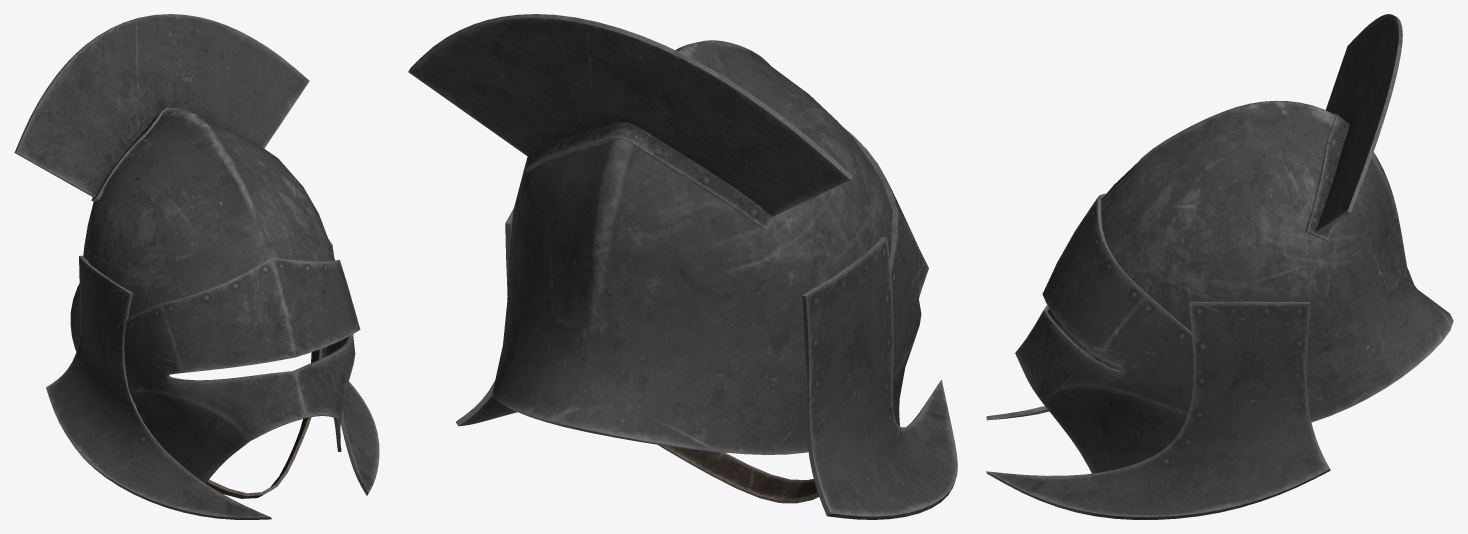
The model's file is sk_uruk_hai_helmet_sword_heavy_a4.fbx.
3 renders of one model, left to right at view 1: azimuth 30°, elevation 25°; view 2: azimuth 150°, elevation 25°; view 3: azimuth 270°, elevation 25°, orthographic. The views are drawn at different scales.
Visible parts, largest first — view 1: sk_uruk_hai_helmet_sword_heavy_a4.1, sk_uruk_hai_helmet_sword_heavy_a4.0; view 2: sk_uruk_hai_helmet_sword_heavy_a4.1, sk_uruk_hai_helmet_sword_heavy_a4.0; view 3: sk_uruk_hai_helmet_sword_heavy_a4.1.
Boxes of the visible parts, left/top/right/bottom form: sk_uruk_hai_helmet_sword_heavy_a4.1: left=14, top=14, right=379, bottom=519; sk_uruk_hai_helmet_sword_heavy_a4.0: left=205, top=348, right=322, bottom=498; sk_uruk_hai_helmet_sword_heavy_a4.1: left=408, top=14, right=957, bottom=519; sk_uruk_hai_helmet_sword_heavy_a4.0: left=658, top=445, right=818, bottom=503; sk_uruk_hai_helmet_sword_heavy_a4.1: left=986, top=14, right=1453, bottom=519.
Bounding box in the file's own units: 0.2846 × 0.3406 × 0.3699.
2 materials, 2 textured.
